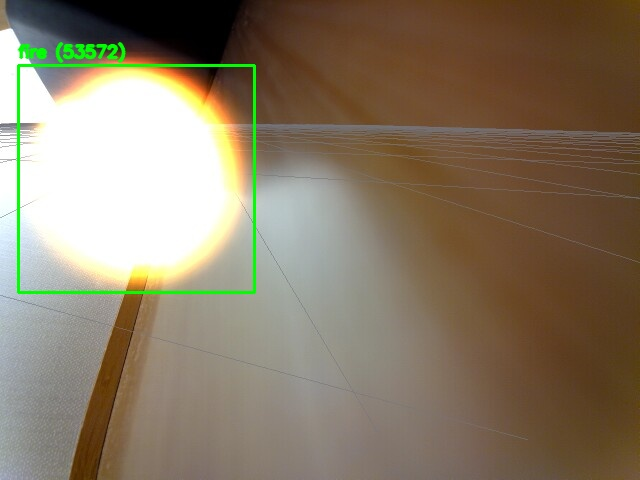fire: (18, 65, 254, 292)
